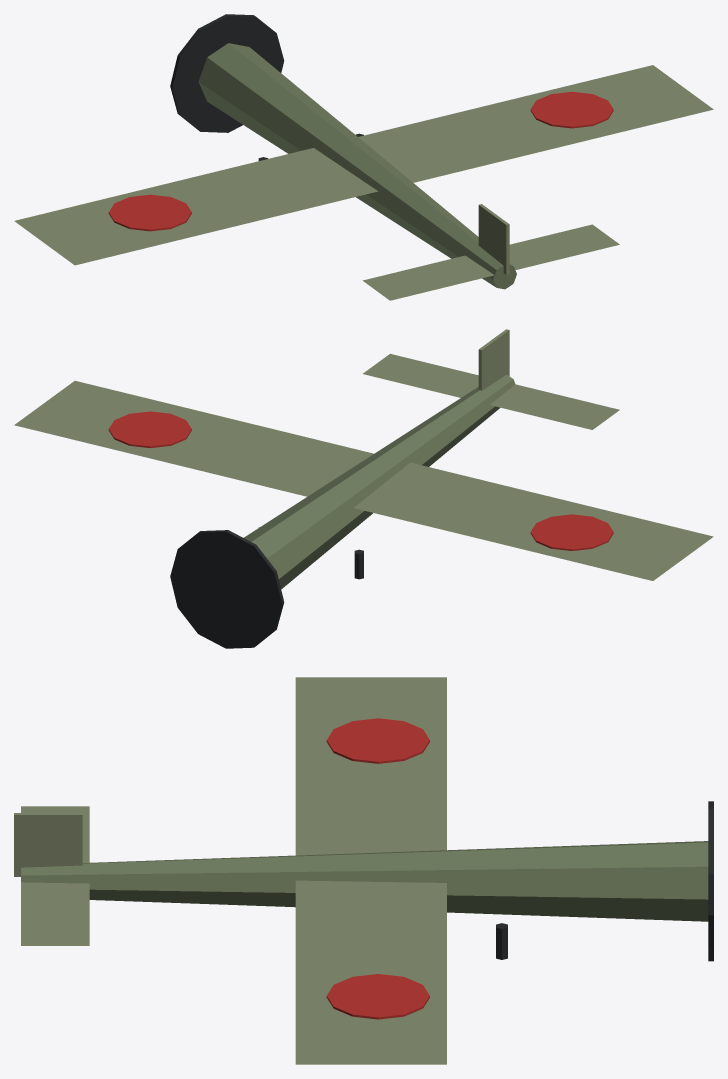
File: plane_jp_bomber.glb
The picture shows the model from 3 angles, top to bottom: view 1: azimuth 30°, elevation 25°; view 2: azimuth 150°, elevation 25°; view 3: azimuth 270°, elevation 25°; orthographic projection. The views are drawn at different scales.
Parts seen in each view (by area): view 1: Hull; view 2: Hull; view 3: Hull.
Boxes of the visible parts, <box> form: Hull: <box>14,14,713,300</box>; Hull: <box>14,329,713,648</box>; Hull: <box>14,677,713,1064</box>.
Bounding box in the file's own units: 16 × 2.8 × 12.22.
